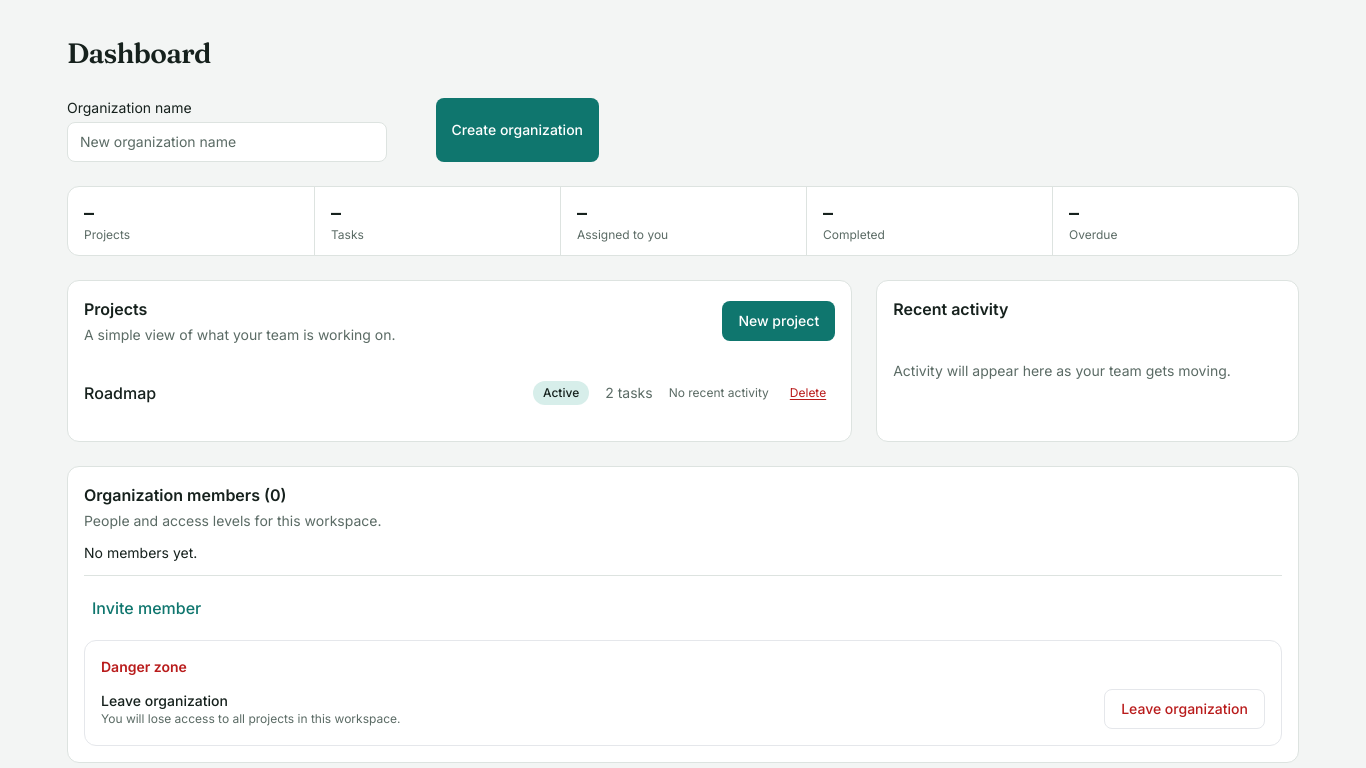
Test case: delete project confirmation › deletes successfully, invalidates related queries, clears project caches, and redirects
This screenshot has width=1366, height=768.
Click the button with aria-label "Delete project Roadmap" at (808,393), box [781, 371, 835, 415]
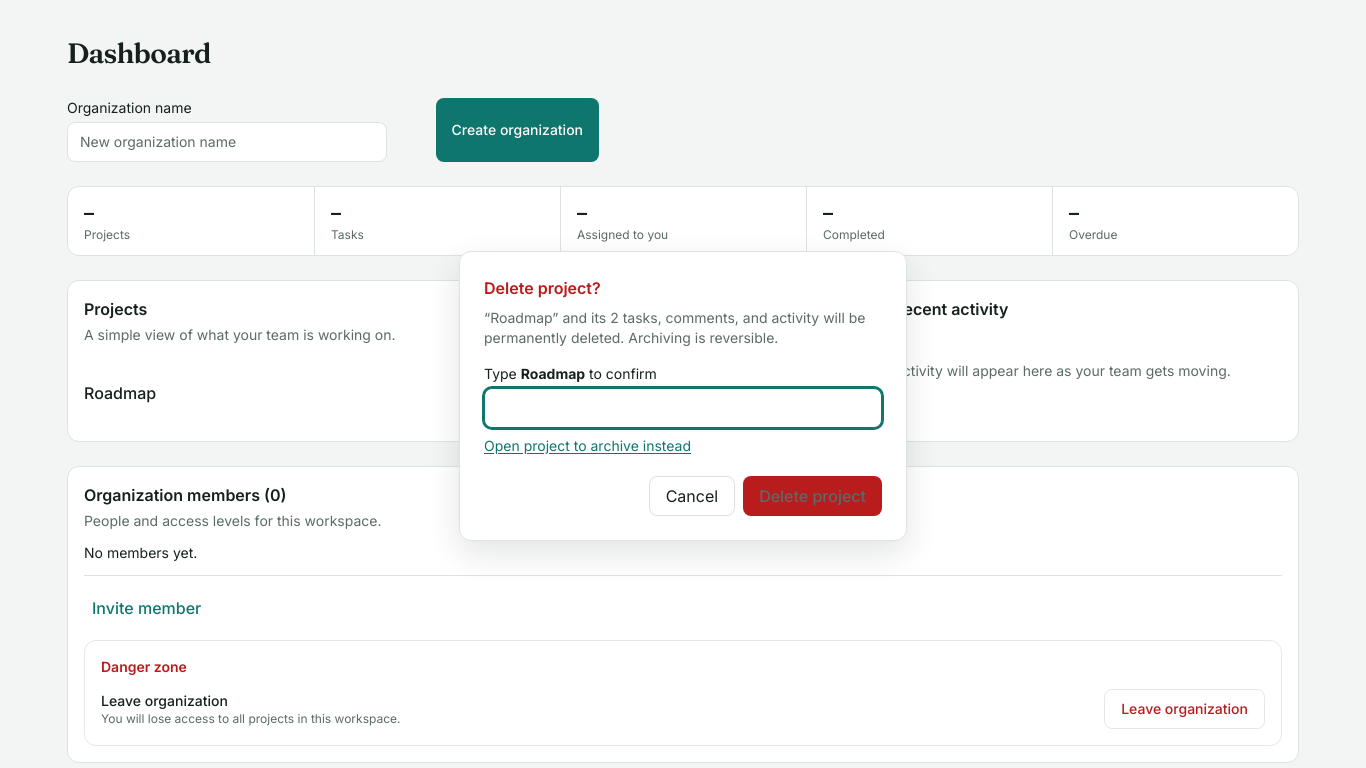
Type "Roadmap" into the field named "Project name confirmation" at (683,408), box [484, 388, 882, 428]
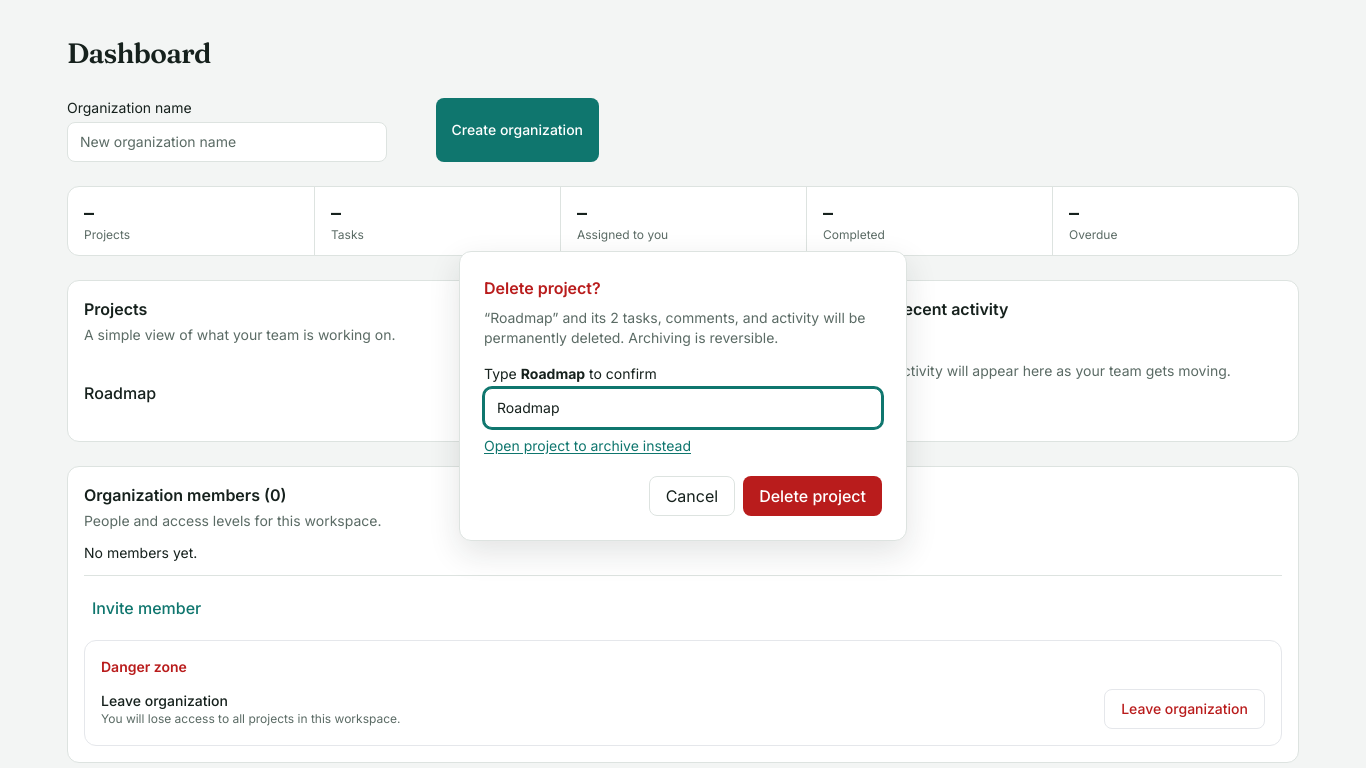
Click the button "Delete project" at (813,496), box [743, 476, 882, 516]
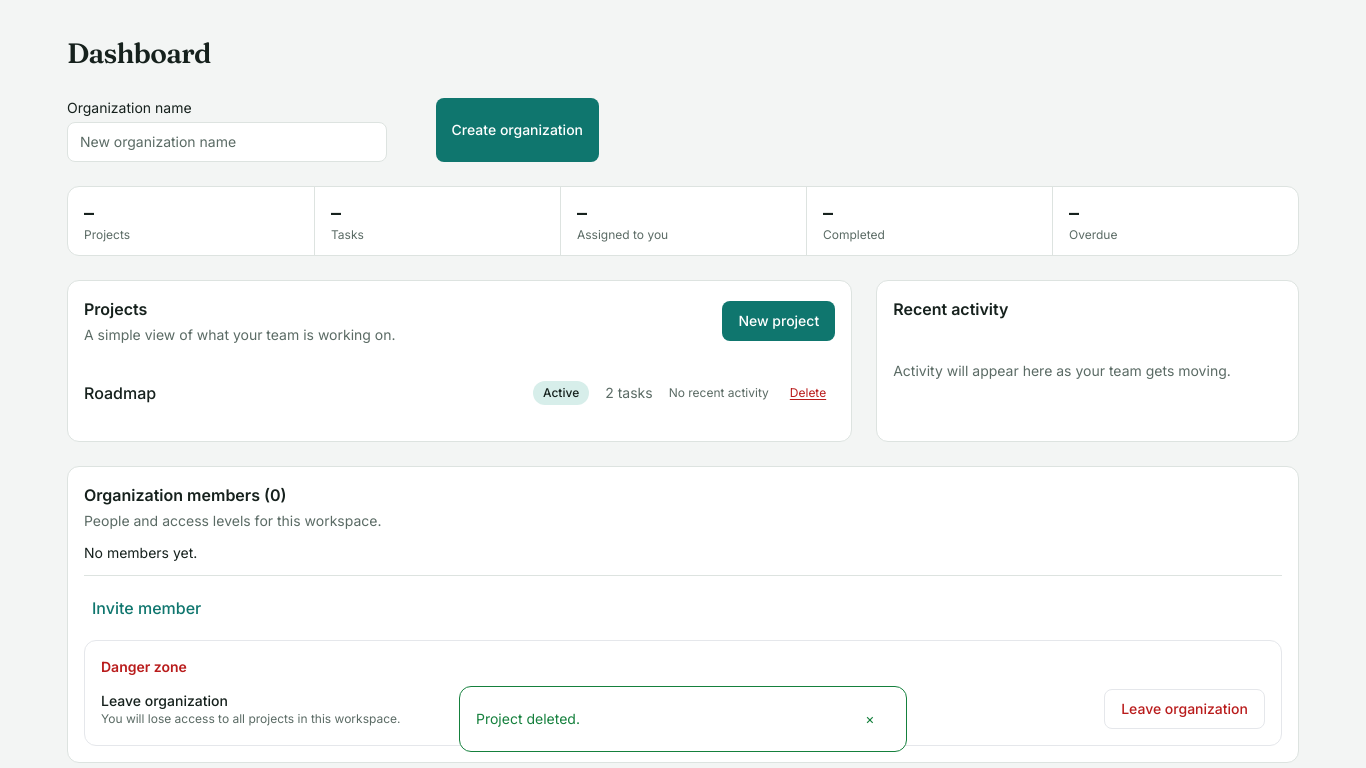
Expected: the text "Project deleted." is shown, [476, 710, 580, 727]
